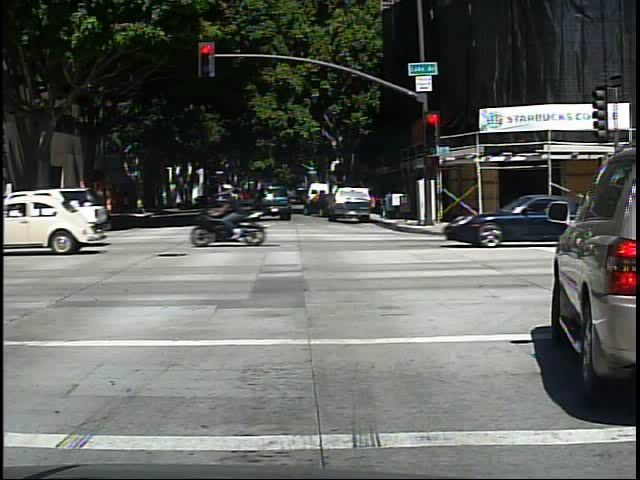person: (228, 179, 266, 240), (62, 191, 73, 224)
